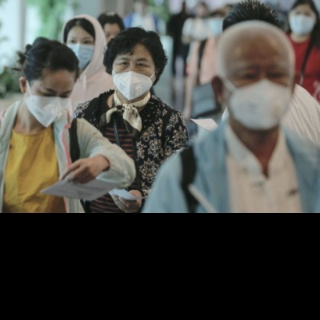with_mask: (224, 61, 292, 132), (24, 87, 74, 128), (112, 56, 156, 102), (66, 34, 95, 68), (288, 8, 315, 36)
